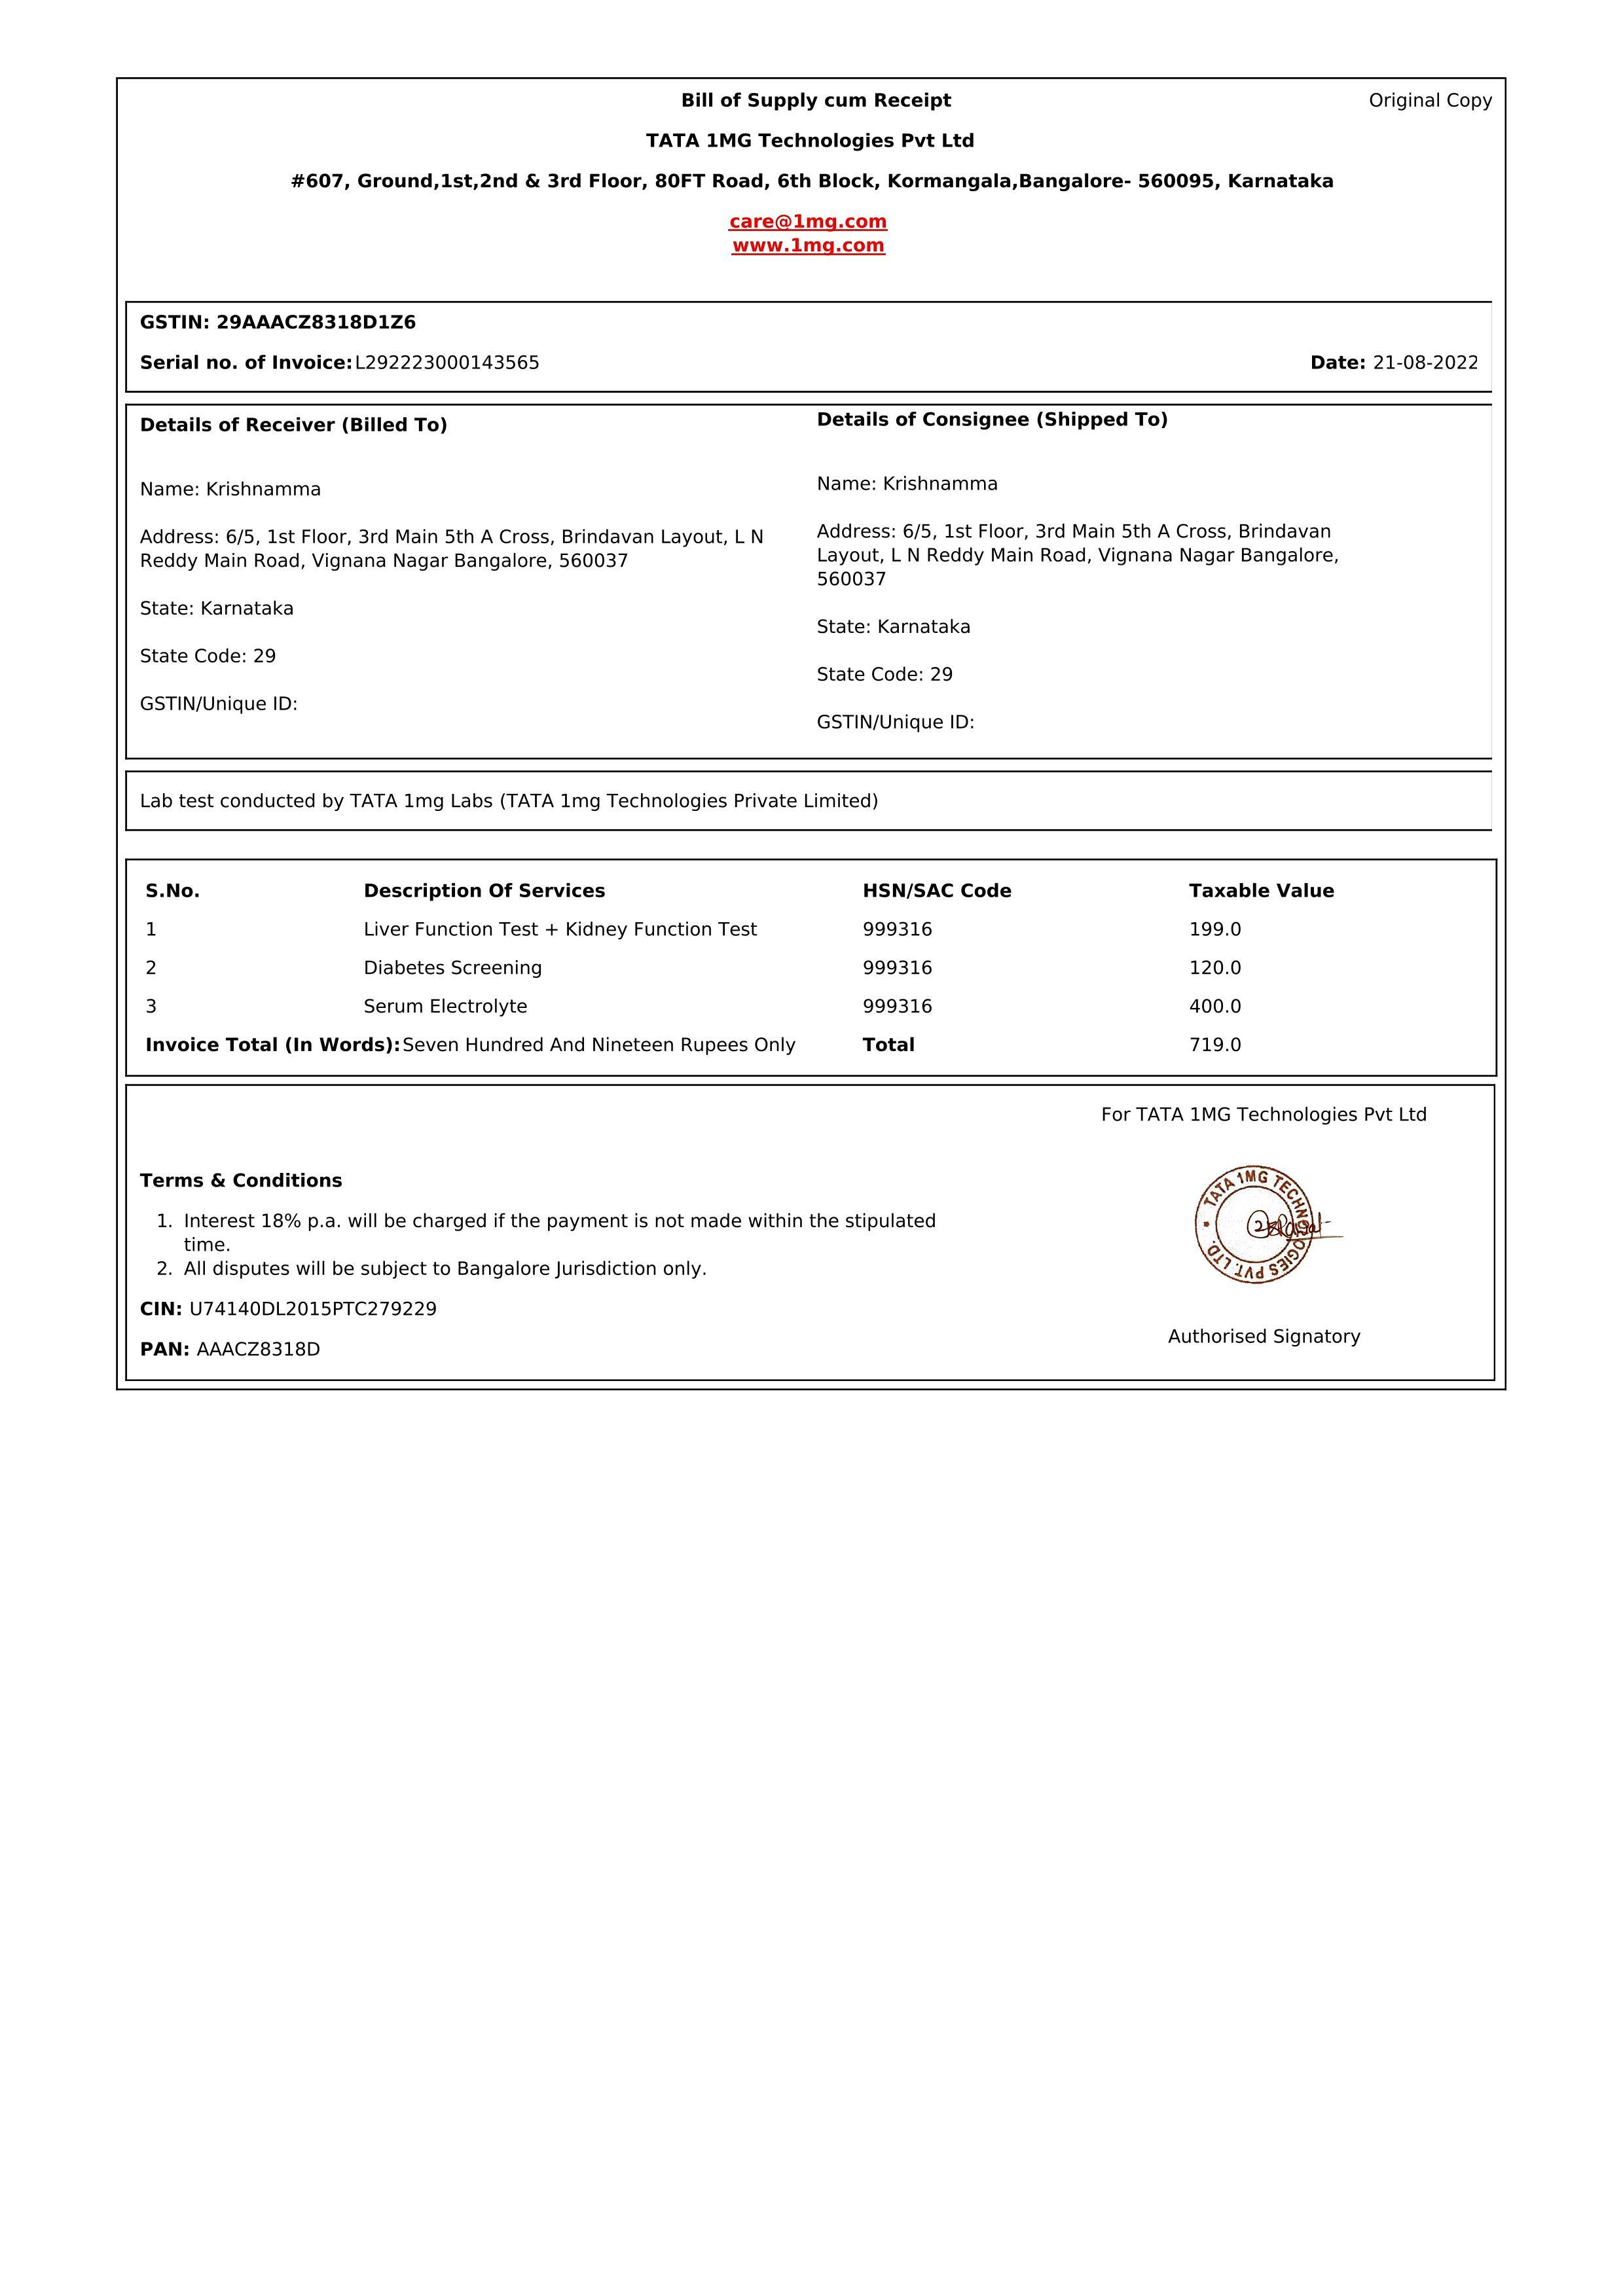InvoiceDate: (1370, 349, 1482, 376)
InvoiceNumber: (353, 348, 545, 376)
TotalAmount: (1184, 1032, 1249, 1057)
